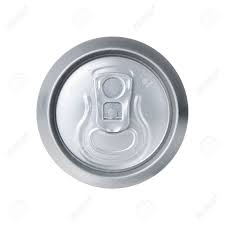can: (33, 35, 190, 192)
